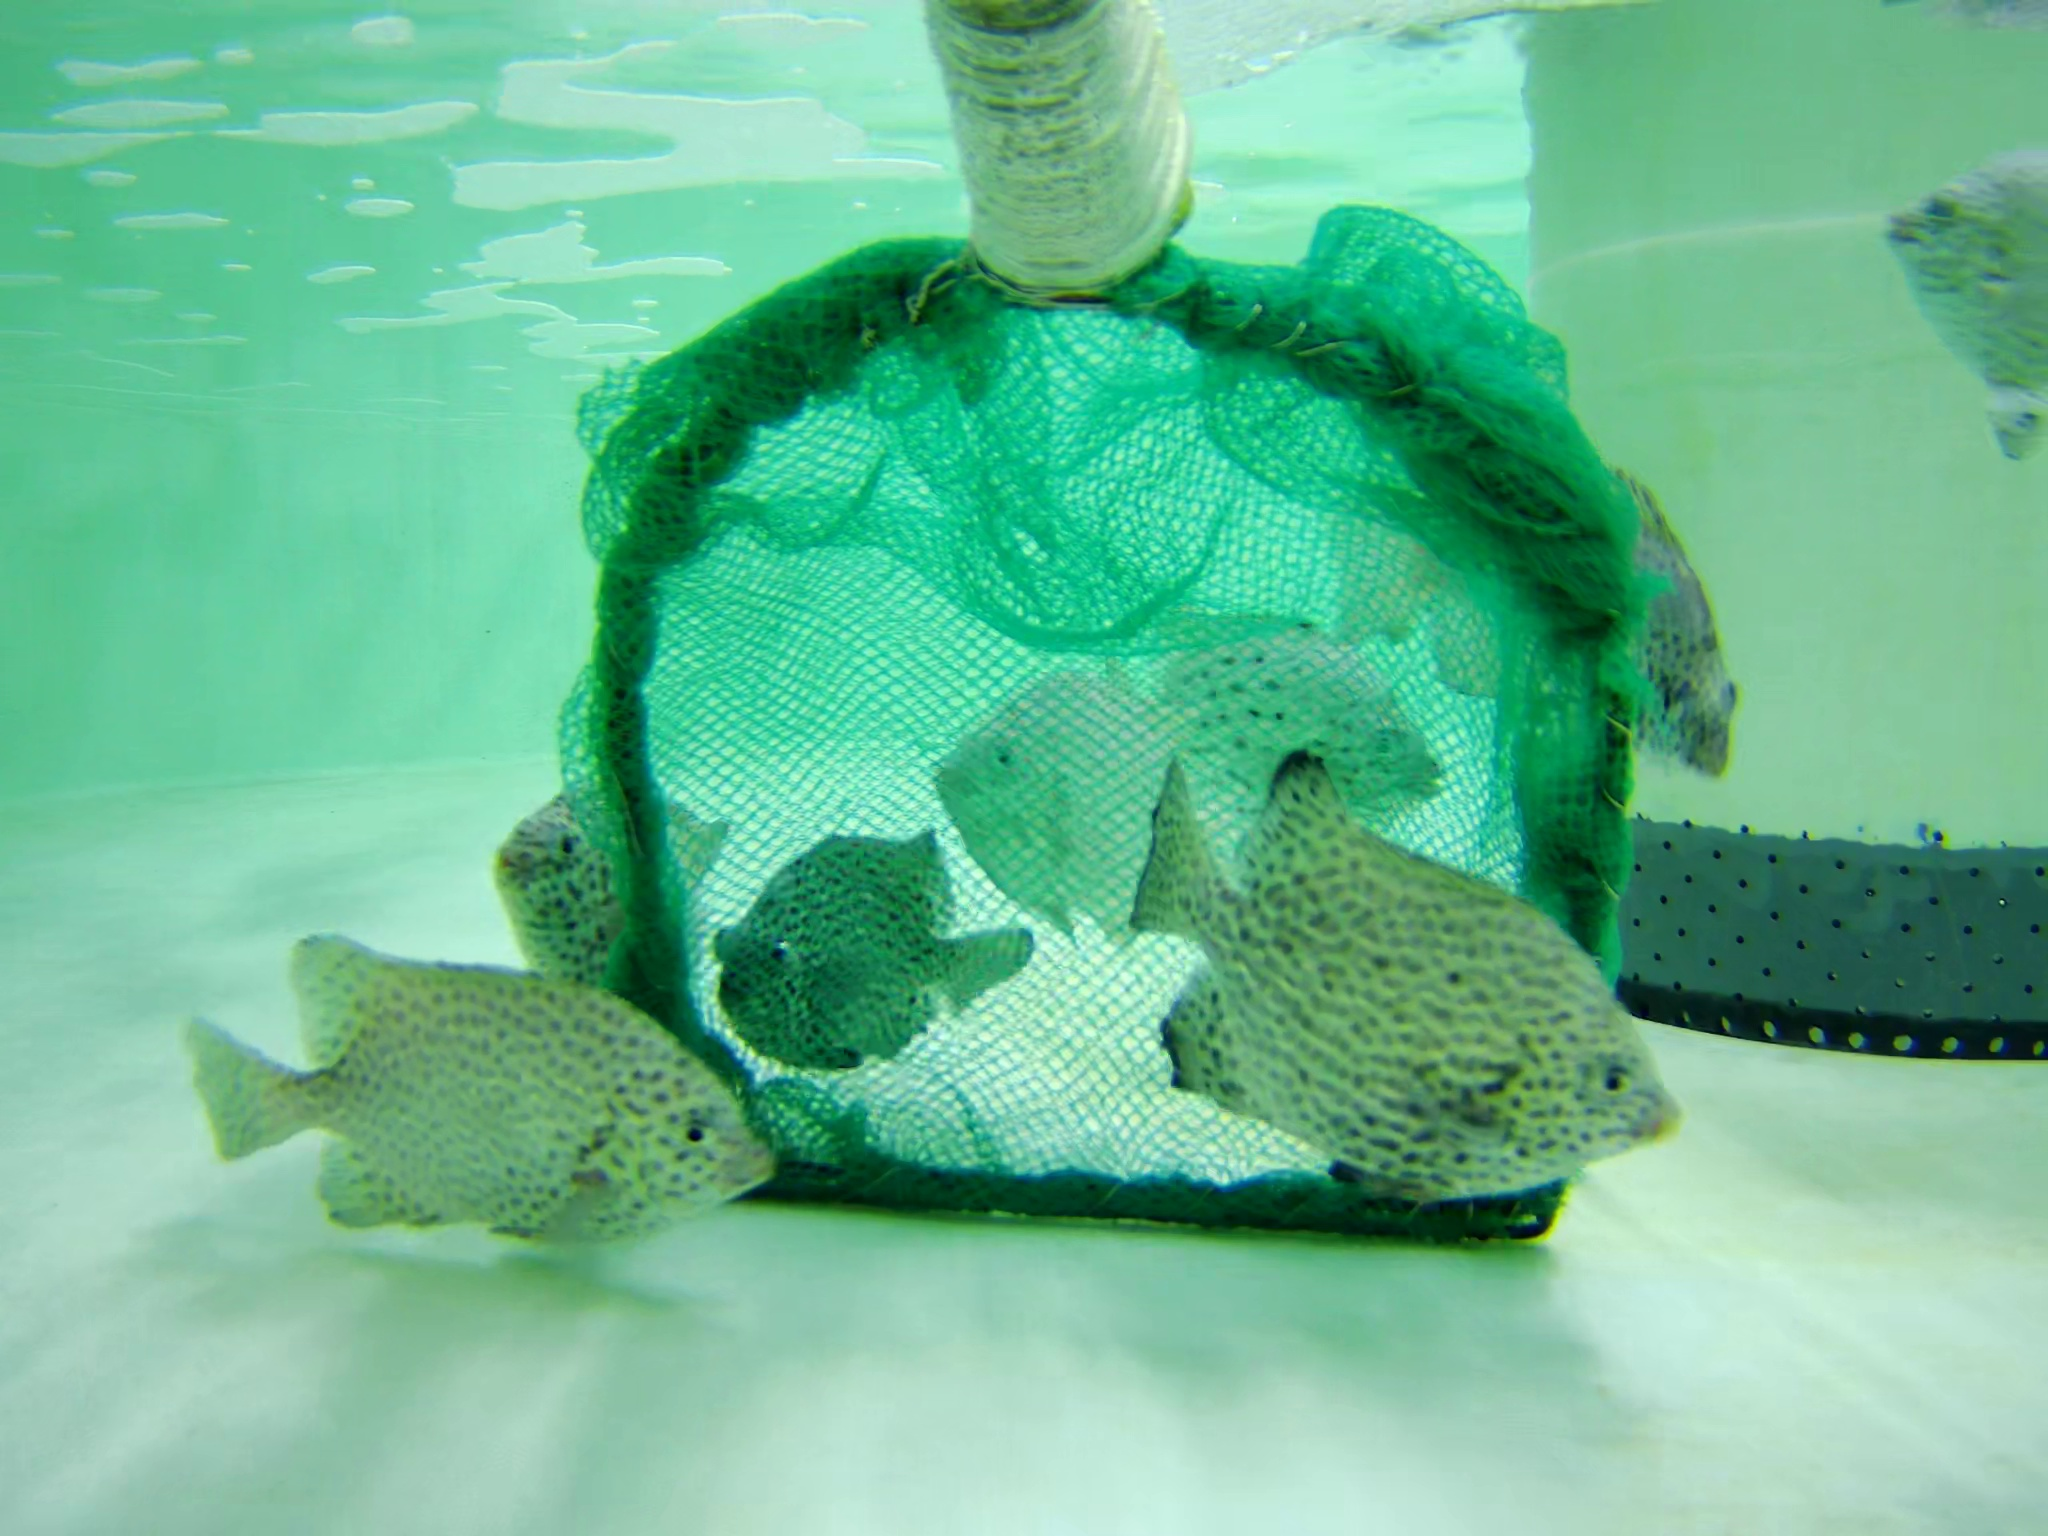fish: (1122, 739, 1679, 1187), (189, 934, 776, 1247), (1324, 432, 1735, 800), (929, 660, 1240, 999), (708, 803, 1024, 1096), (1130, 571, 1435, 816), (1880, 150, 2048, 460), (505, 781, 721, 1004)
